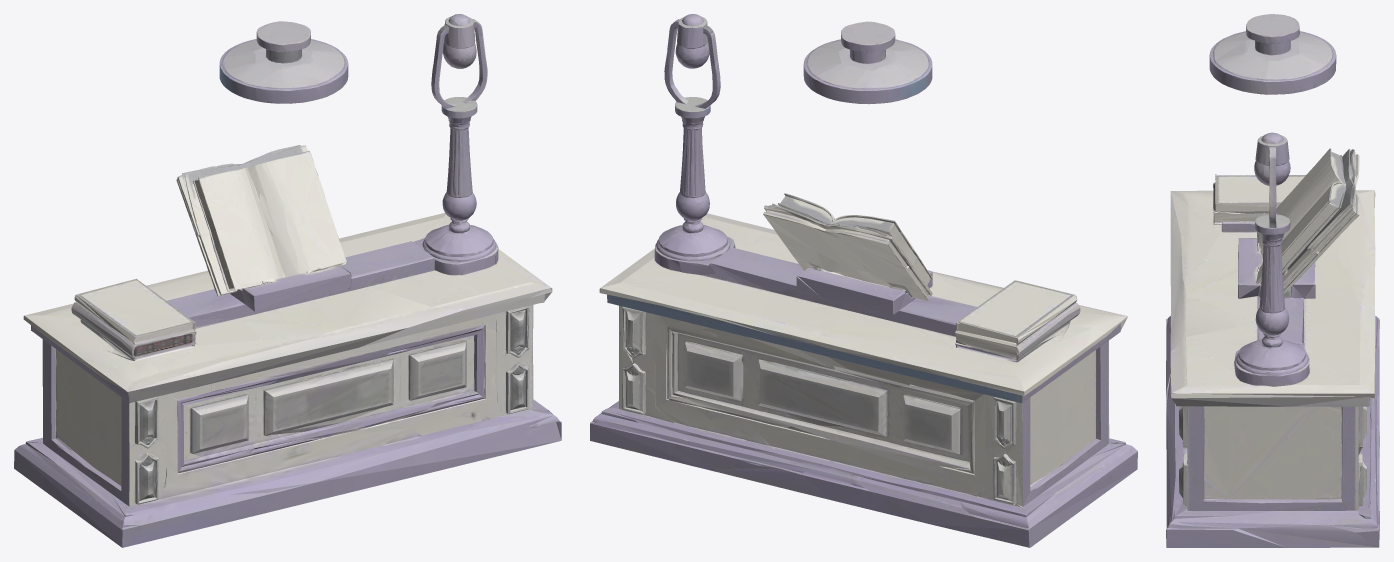
File: evidence-lectern.gltf
The picture shows the model from 3 angles, left to right: view 1: azimuth 30°, elevation 25°; view 2: azimuth 150°, elevation 25°; view 3: azimuth 270°, elevation 25°; orthographic projection.
Size of the model in its own units: 1.9 by 1.75 by 0.8144.
1 material, 1 textured.
